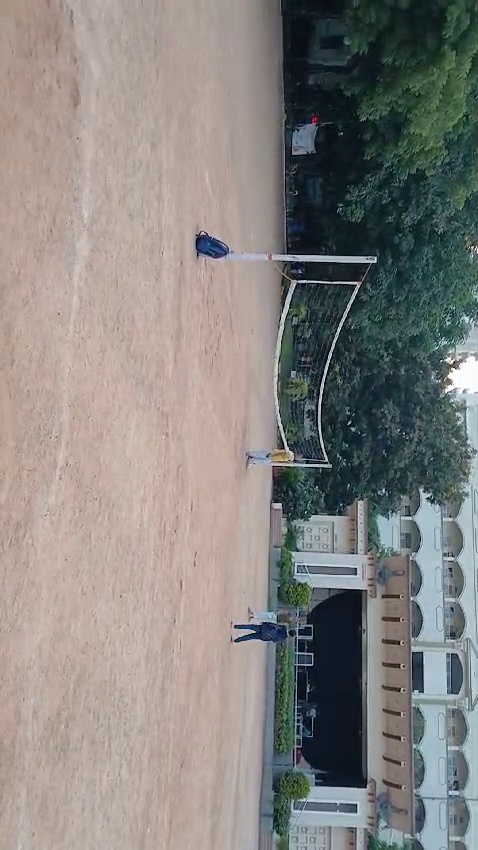bag: (189, 226, 229, 265)
